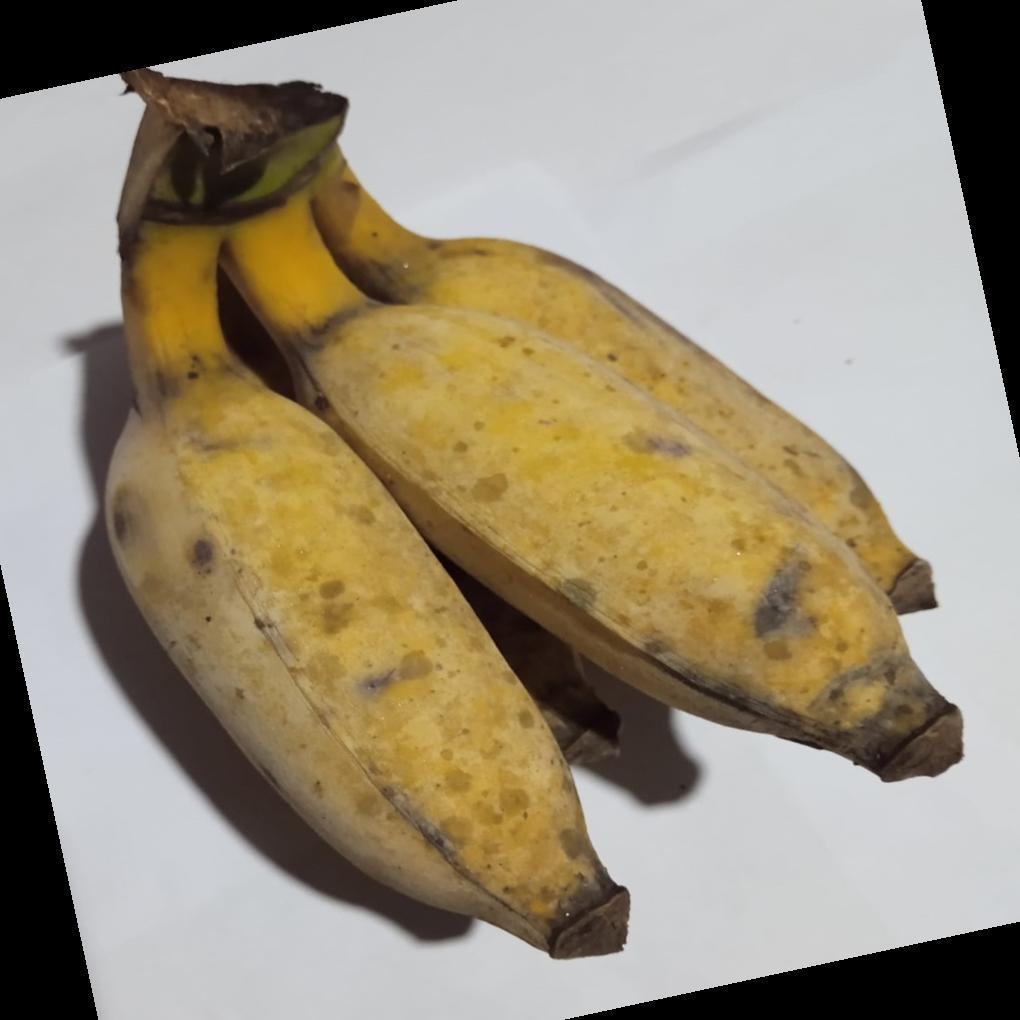Banana Ripe: (195, 64, 1019, 791), (41, 114, 652, 1009)
